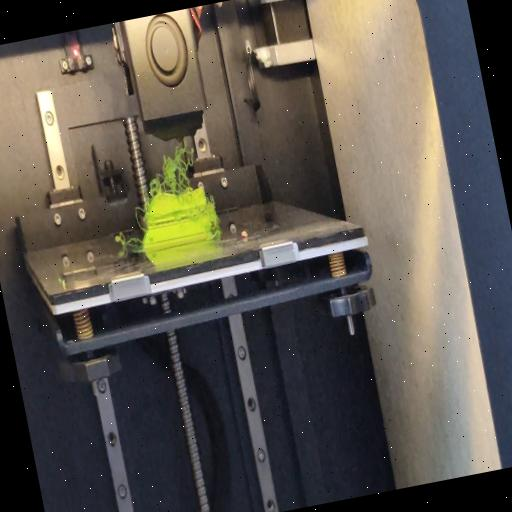spaghetti: (139, 139, 203, 199), (114, 230, 142, 250), (134, 203, 149, 231), (211, 225, 225, 236)
